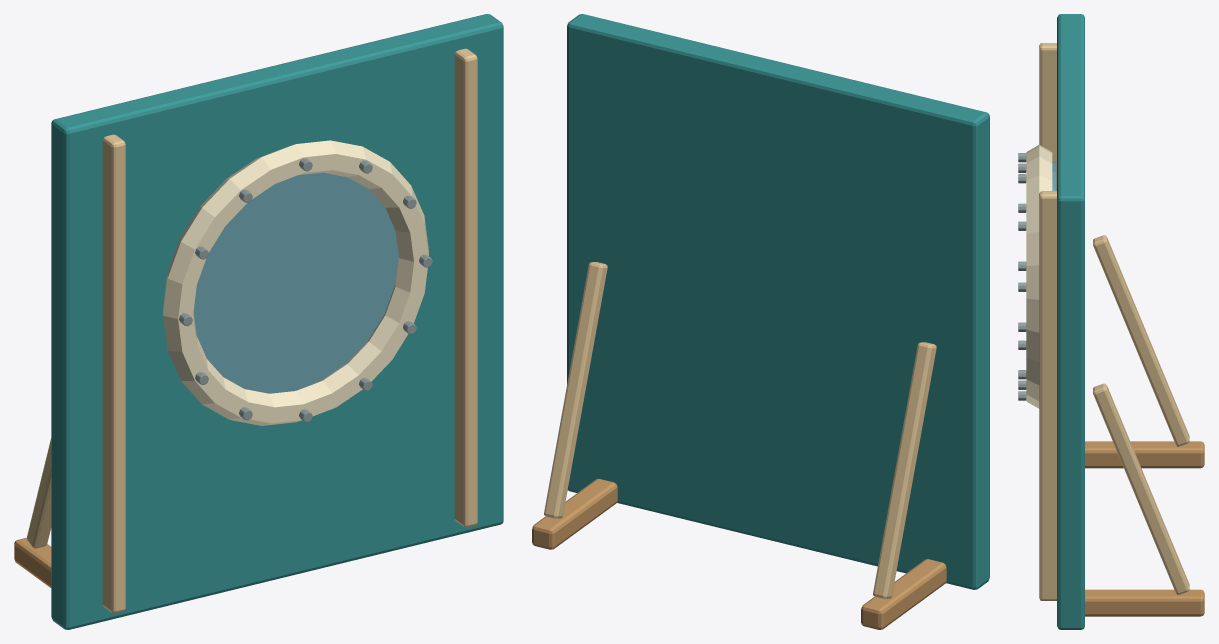
File: S008_porthole_bulkhead.glb
3 renders of one model, left to right at view 1: azimuth 30°, elevation 25°; view 2: azimuth 150°, elevation 25°; view 3: azimuth 270°, elevation 25°, orthographic. The views are drawn at different scales.
Parts seen in each view (by area): view 1: bulkhead, dark_round_glass, porthole_rim, bulkhead_rib, bulkhead_rib.001, rear_triangular_brace, rear_plywood_foot; view 2: bulkhead, rear_triangular_brace.001, rear_triangular_brace, rear_plywood_foot.001, rear_plywood_foot; view 3: bulkhead, bulkhead_rib.001, porthole_rim, rear_triangular_brace, rear_triangular_brace.001, rear_plywood_foot.001, rear_plywood_foot, bulkhead_rib.
Boxes of the visible parts, bbox=[...] form: bulkhead: bbox=[51, 14, 503, 629]; dark_round_glass: bbox=[193, 172, 398, 393]; porthole_rim: bbox=[163, 140, 428, 425]; bulkhead_rib: bbox=[102, 134, 125, 613]; bulkhead_rib.001: bbox=[454, 48, 477, 527]; rear_triangular_brace: bbox=[27, 438, 51, 548]; rear_plywood_foot: bbox=[14, 537, 51, 587]; bulkhead: bbox=[567, 14, 989, 589]; rear_triangular_brace.001: bbox=[544, 262, 607, 518]; rear_triangular_brace: bbox=[873, 342, 936, 598]; rear_plywood_foot.001: bbox=[532, 478, 617, 549]; rear_plywood_foot: bbox=[861, 559, 946, 629]; bulkhead: bbox=[1057, 14, 1084, 629]; bulkhead_rib.001: bbox=[1039, 191, 1056, 600]; porthole_rim: bbox=[1026, 145, 1052, 408]; rear_triangular_brace: bbox=[1093, 235, 1189, 446]; rear_triangular_brace.001: bbox=[1093, 383, 1189, 594]; rear_plywood_foot.001: bbox=[1085, 589, 1204, 616]; rear_plywood_foot: bbox=[1085, 441, 1204, 468]; bulkhead_rib: bbox=[1039, 43, 1056, 190].
Size of the model in its own units: 2.2 by 2.4 by 0.935.
